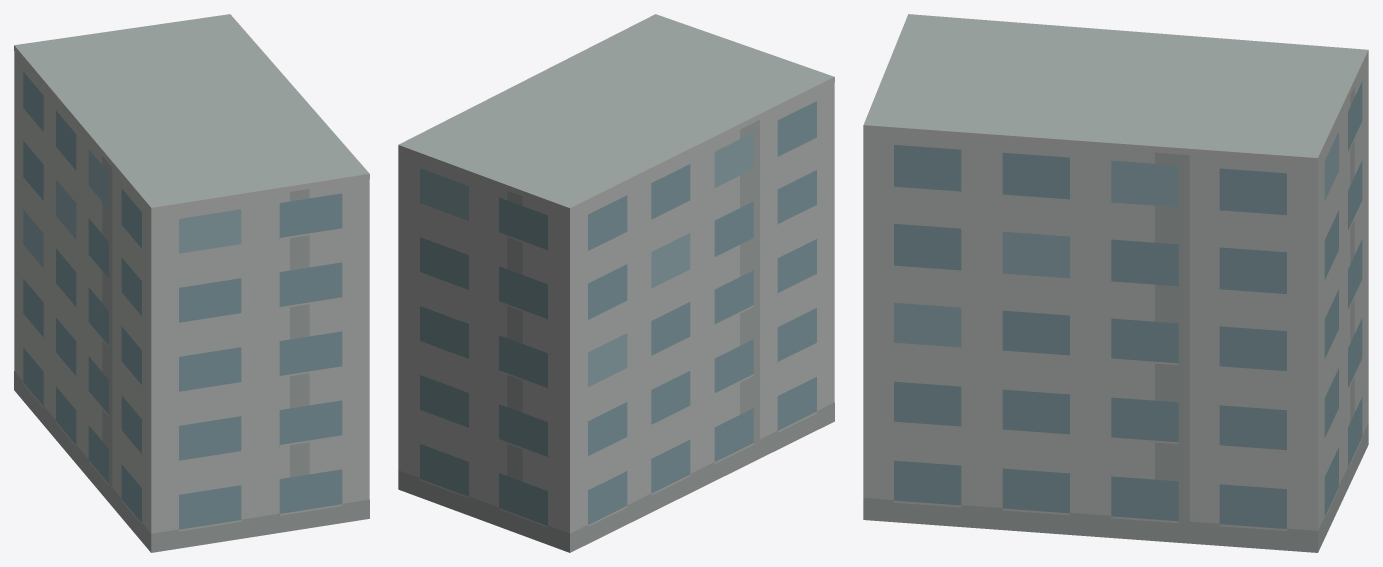
The model's file is survey-upis-32929221.glb.
3 views of the same model, side by side, from view 1: azimuth 30°, elevation 25°; view 2: azimuth 150°, elevation 25°; view 3: azimuth 270°, elevation 25° (orthographic). The views are drawn at different scales.
Visible parts, largest first — view 1: survey-upis-32929221.tmp; view 2: survey-upis-32929221.tmp; view 3: survey-upis-32929221.tmp.
Boxes of the visible parts, box(x1,y1,x2,y2) form: survey-upis-32929221.tmp: box(14, 14, 369, 552); survey-upis-32929221.tmp: box(398, 14, 834, 552); survey-upis-32929221.tmp: box(863, 14, 1368, 552).
Bounding box in the file's own units: 11.63 × 14.85 × 17.23.
